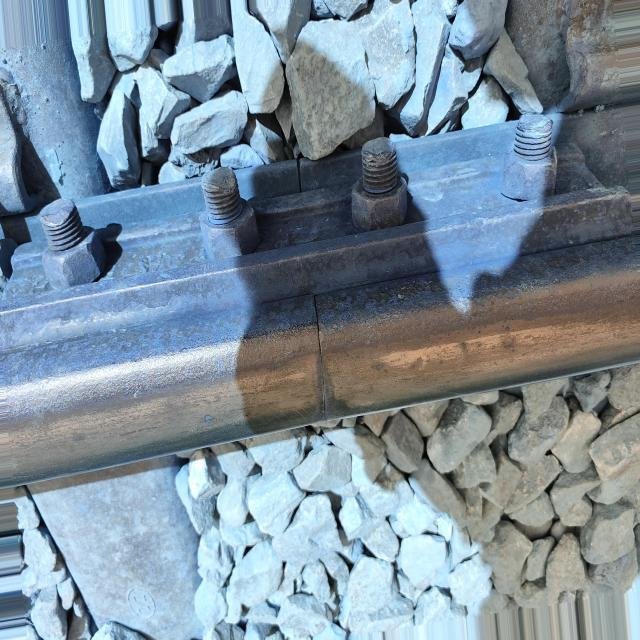Good Joint: (0, 115, 631, 352)
